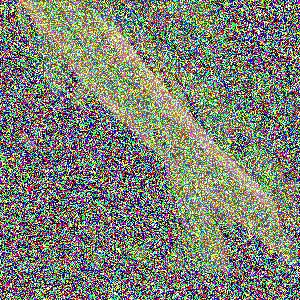Leaf_Blast: (92, 28, 166, 140)
